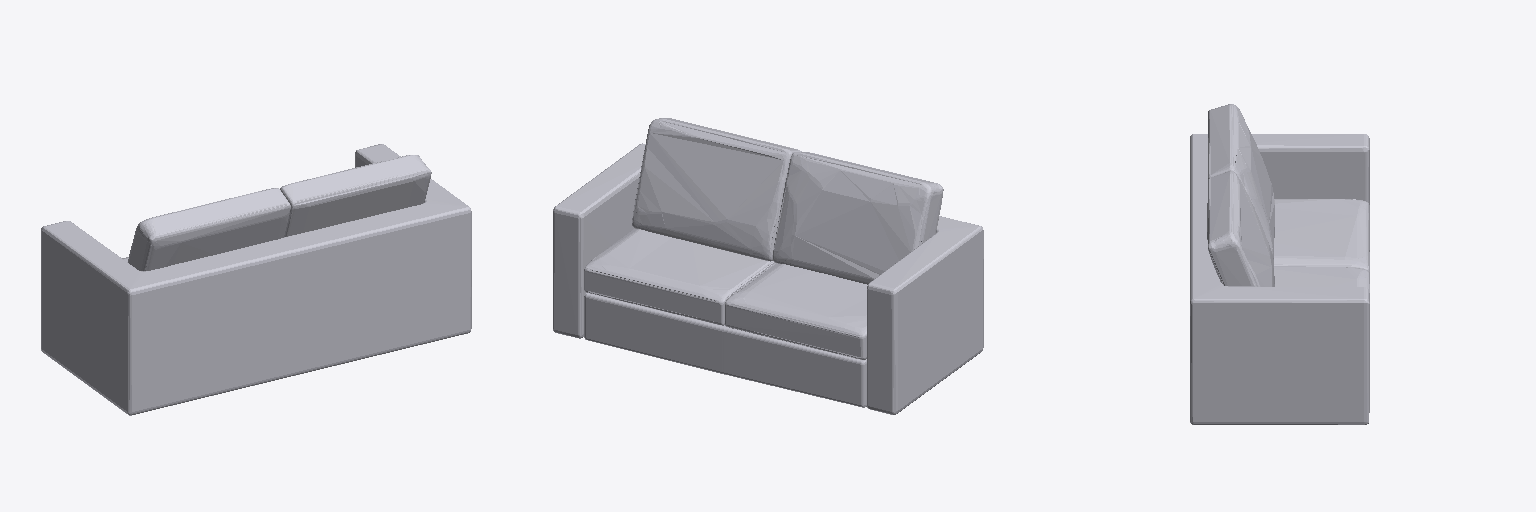
The model's file is sofaeiei.obj.
The picture shows the model from 3 angles: view 1: azimuth 30°, elevation 25°; view 2: azimuth 150°, elevation 25°; view 3: azimuth 270°, elevation 25°; orthographic projection.
Parts seen in each view (by area): view 1: Meshpart1; view 2: Meshpart1; view 3: Meshpart1.
Part boxes in pixels (left/top/right/bottom): Meshpart1: left=41, top=144, right=471, bottom=415; Meshpart1: left=553, top=118, right=983, bottom=414; Meshpart1: left=1190, top=104, right=1369, bottom=424.
Bounding box in the file's own units: 16.29 × 7.91 × 7.39.